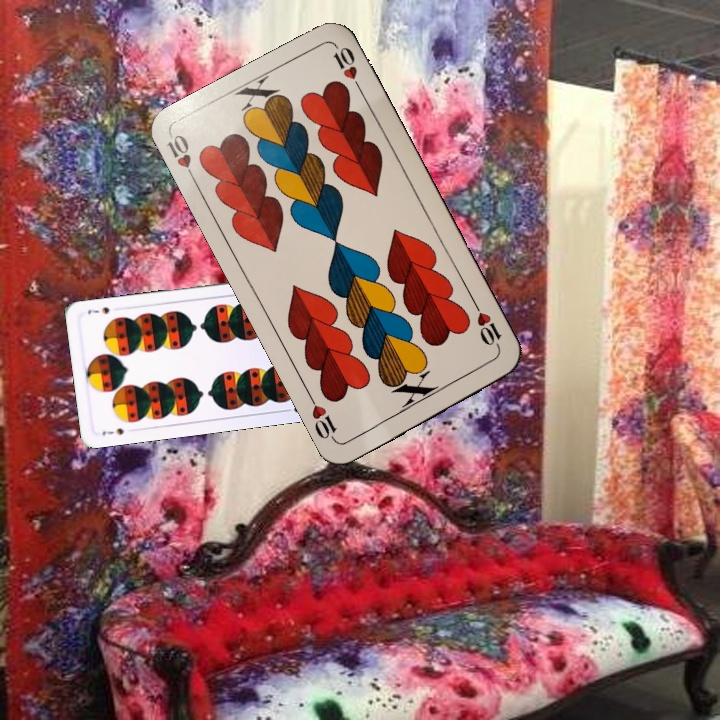H10: (163, 130, 200, 187), (469, 299, 505, 354)
S7: (98, 424, 126, 438)
